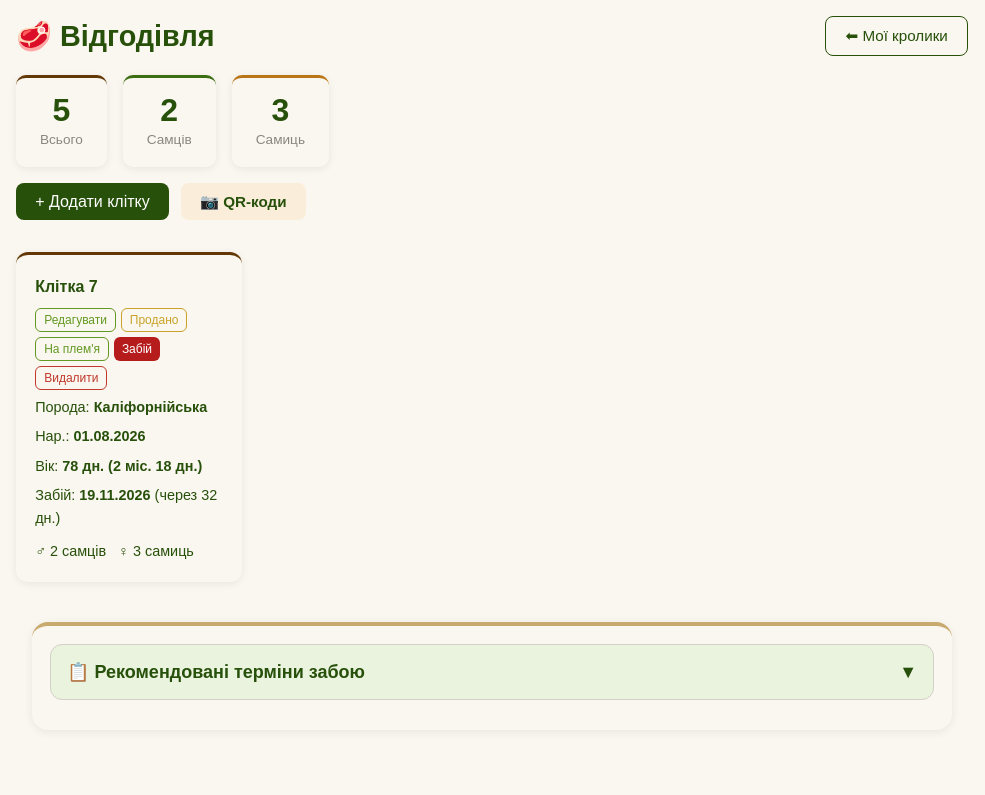
Test: Fattening: помилки Supabase › видалення: помилка показується, клітка лишається в списку
Click the button "Видалити".
click(71, 378)  # box x1=35 y1=366 x2=108 y2=390
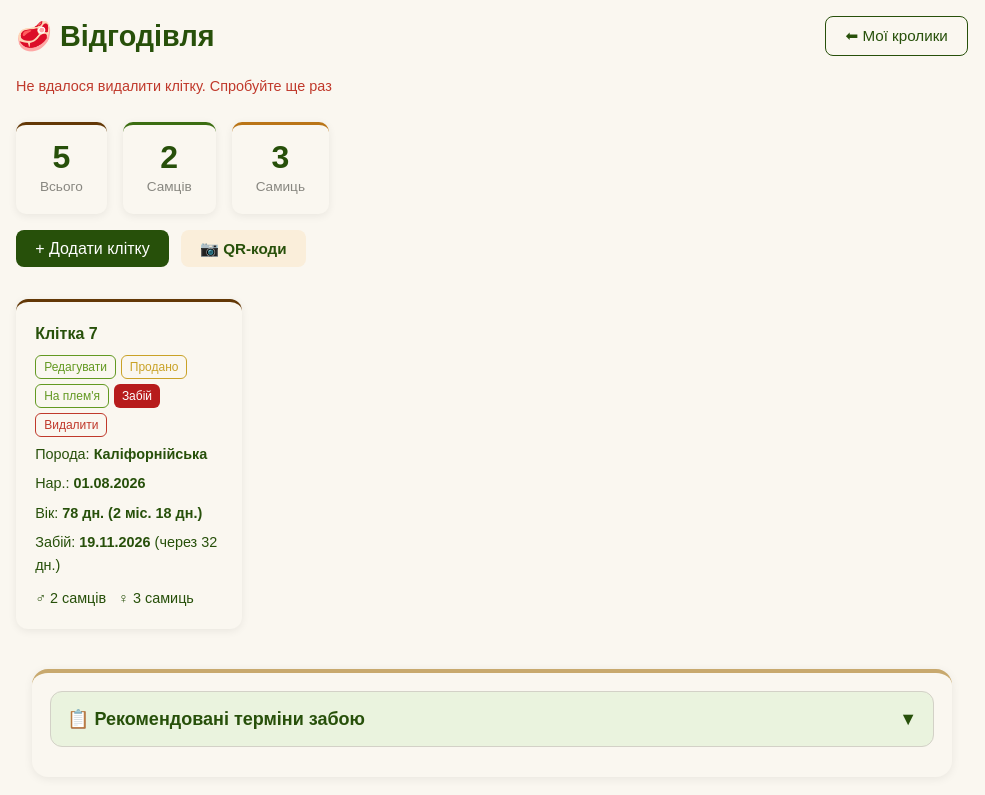
Expected: the text "Клітка 7" is shown, x1=35 y1=321 x2=98 y2=347
Expected: the text "Не вдалося видалити клітку. Спробуйте ще раз" is shown, x1=16 y1=78 x2=332 y2=94
